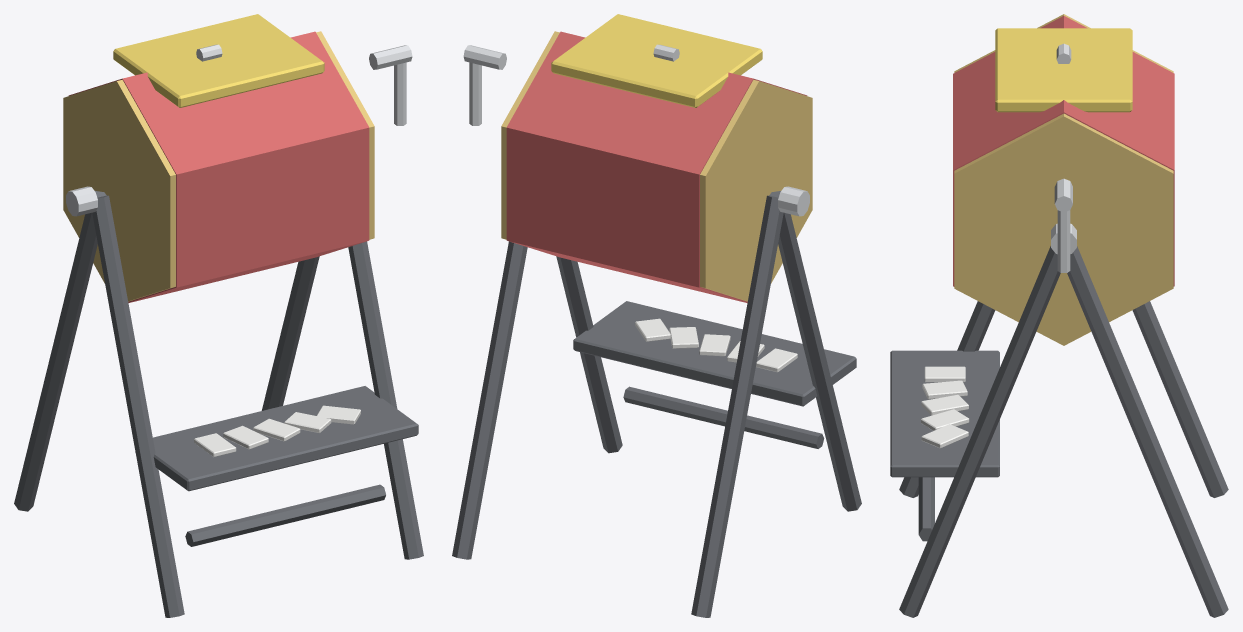
3 views of the same model, side by side, from view 1: azimuth 30°, elevation 25°; view 2: azimuth 150°, elevation 25°; view 3: azimuth 270°, elevation 25° (orthographic). The views are drawn at different scales.
Parts seen in each view (by area): view 1: tombola-drum, tombola-drum/red, tombola-drum/brass, tombola-drum/yellow, tombola-drum/metal; view 2: tombola-drum, tombola-drum/red, tombola-drum/brass, tombola-drum/yellow, tombola-drum/metal; view 3: tombola-drum, tombola-drum/brass, tombola-drum/red, tombola-drum/yellow, tombola-drum/metal.
Boxes of the visible parts, bbox=[...] form: tombola-drum: bbox=[14, 186, 423, 617]; tombola-drum/red: bbox=[68, 31, 369, 302]; tombola-drum/brass: bbox=[63, 31, 374, 301]; tombola-drum/yellow: bbox=[113, 14, 324, 107]; tombola-drum/metal: bbox=[196, 44, 412, 125]; tombola-drum: bbox=[452, 186, 861, 617]; tombola-drum/red: bbox=[506, 31, 807, 302]; tombola-drum/brass: bbox=[501, 31, 812, 301]; tombola-drum/yellow: bbox=[551, 14, 762, 107]; tombola-drum/metal: bbox=[463, 44, 679, 125]; tombola-drum: bbox=[890, 223, 1228, 617]; tombola-drum/brass: bbox=[954, 14, 1173, 345]; tombola-drum/red: bbox=[953, 16, 1174, 286]; tombola-drum/yellow: bbox=[995, 28, 1132, 112]; tombola-drum/metal: bbox=[1054, 43, 1072, 272].
Size of the model in its own units: 0.87 by 1.21 by 0.7406.
